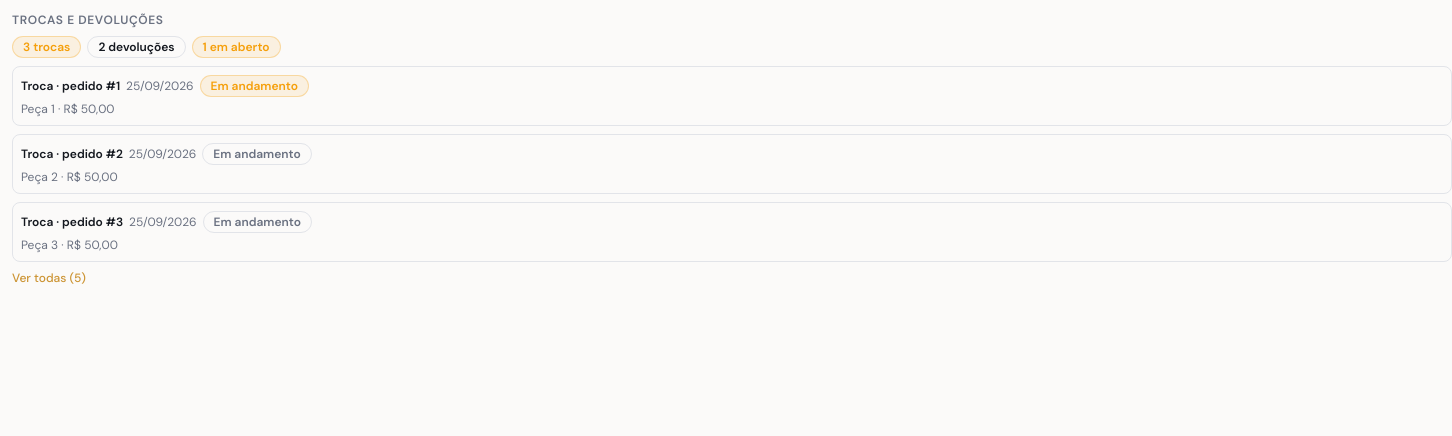
Test: Trocas no painel da cliente › exibe até três inicialmente, expande cinco e busca pela conversa
Expected: the text "3 trocas" is shown, left=12, top=36, right=81, bottom=58
Expected: the text "1 em aberto" is shown, left=192, top=36, right=280, bottom=58
Click the button "Ver todas (5)".
click(49, 278)  # box left=12, top=270, right=86, bottom=286
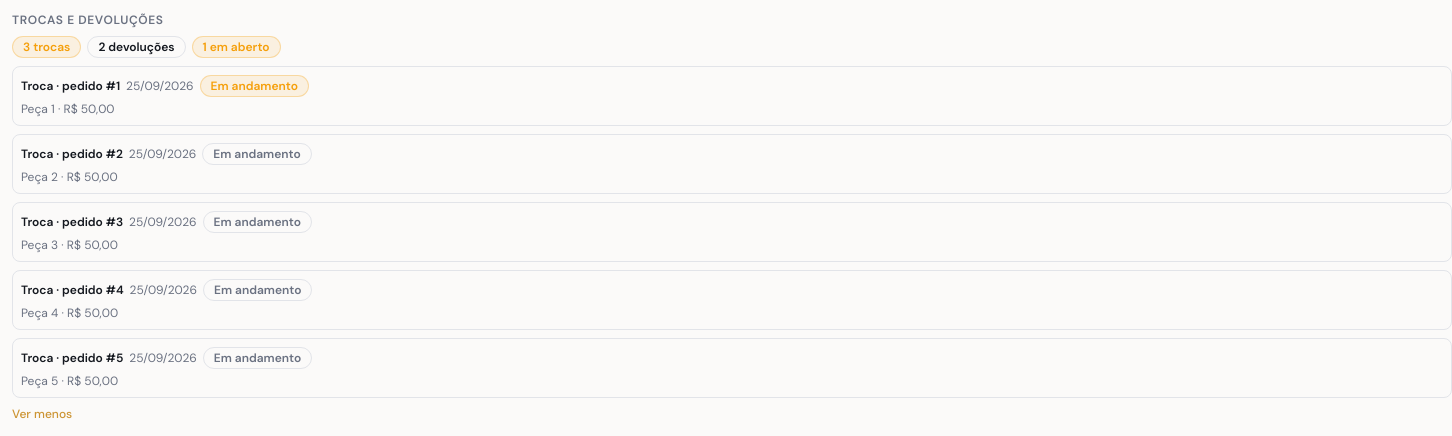
Expected: the text "Peça 5 · R$ 50,00" is shown, left=21, top=373, right=118, bottom=389
